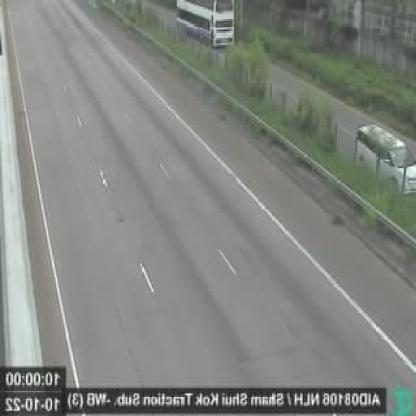Bus: (177, 0, 234, 50)
Car: (351, 121, 416, 196)
